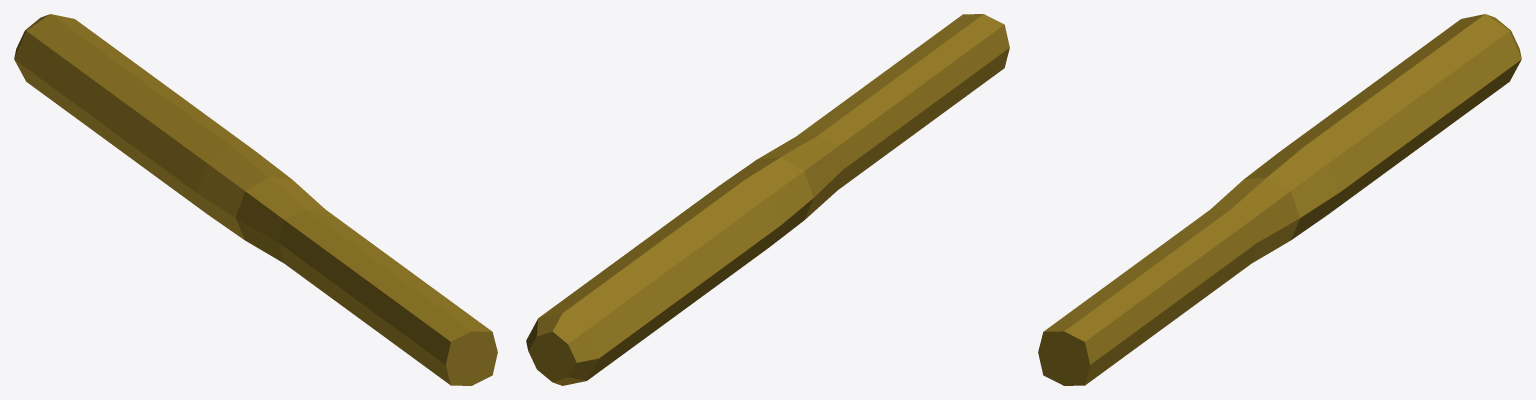
The model's file is bate.fbx.
3 views of the same model, side by side, from view 1: azimuth 30°, elevation 25°; view 2: azimuth 150°, elevation 25°; view 3: azimuth 330°, elevation 25° (orthographic).
Parts seen in each view (by area): view 1: bate; view 2: bate; view 3: bate.
Boxes of the visible parts, x1,y1,x2,y2 form: bate: (14,14,497,385); bate: (526,14,1009,385); bate: (1038,14,1521,385).
Size of the model in its own units: 10.13 by 9.65 by 104.
